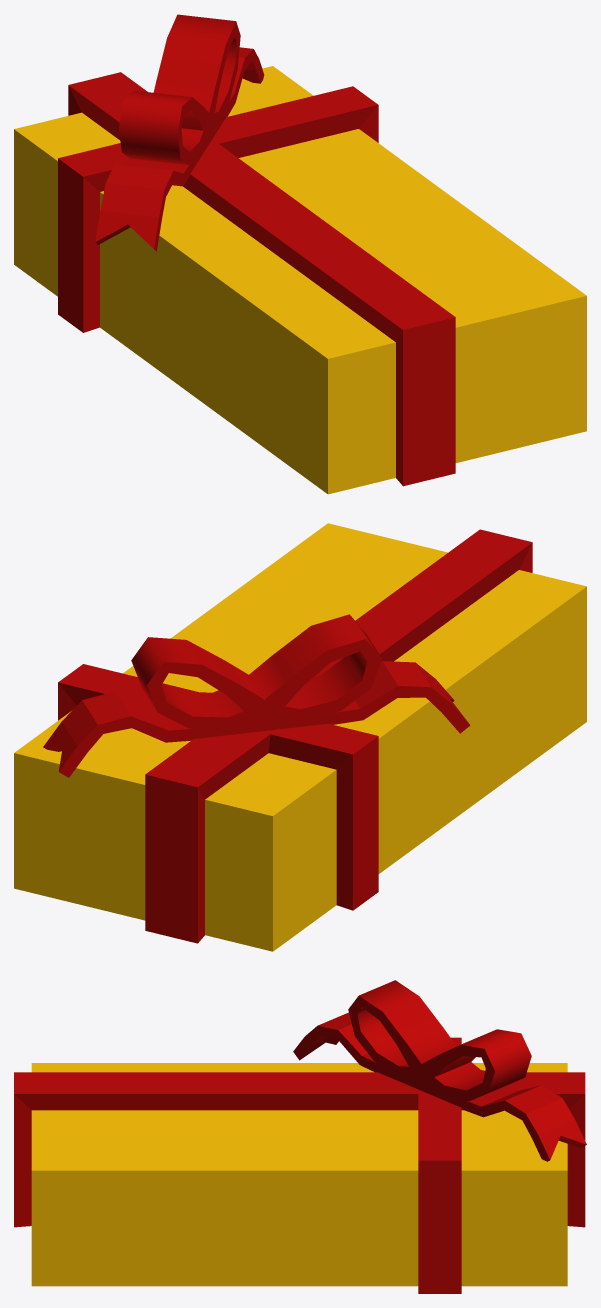
File: Presents15.fbx
3 views of the same model, one above another, from view 1: azimuth 30°, elevation 25°; view 2: azimuth 150°, elevation 25°; view 3: azimuth 270°, elevation 25° (orthographic). The views are drawn at different scales.
Parts seen in each view (by area): view 1: Present15; view 2: Present15; view 3: Present15.
Boxes of the visible parts, x1=… form: Present15: x1=14, y1=14, x2=586, y2=494; Present15: x1=14, y1=523, x2=586, y2=951; Present15: x1=14, y1=980, x2=586, y2=1293.
Bounding box in the file's own units: 51.77 × 34.94 × 89.83.
